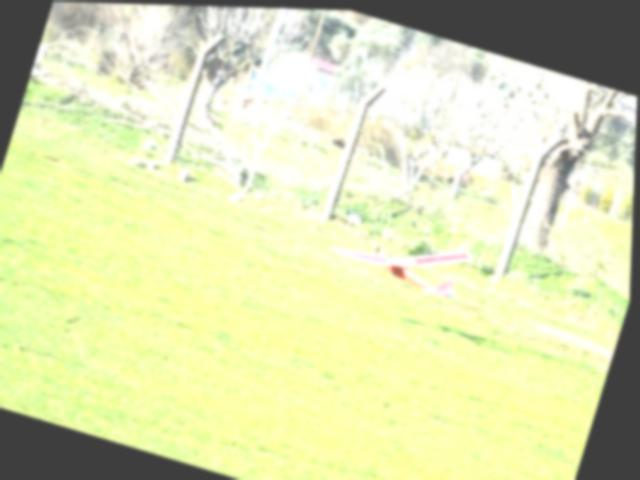iha: (320, 203, 488, 308)
